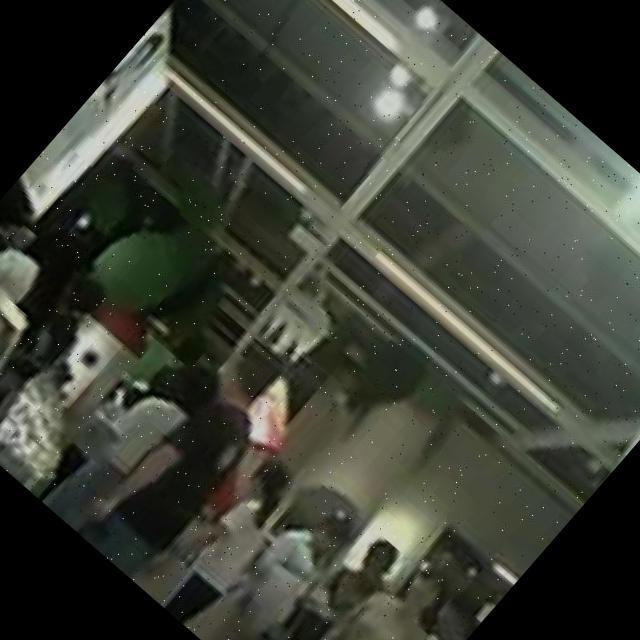person: (72, 325, 318, 588), (38, 340, 232, 548), (147, 452, 318, 636), (189, 485, 370, 640), (0, 184, 109, 423), (235, 518, 411, 640), (0, 270, 112, 441), (288, 542, 465, 640), (370, 593, 487, 640)
